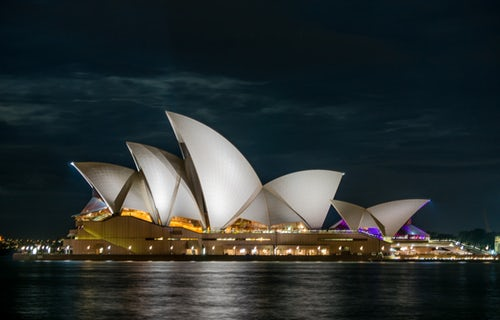opera house: (40, 86, 463, 259)
